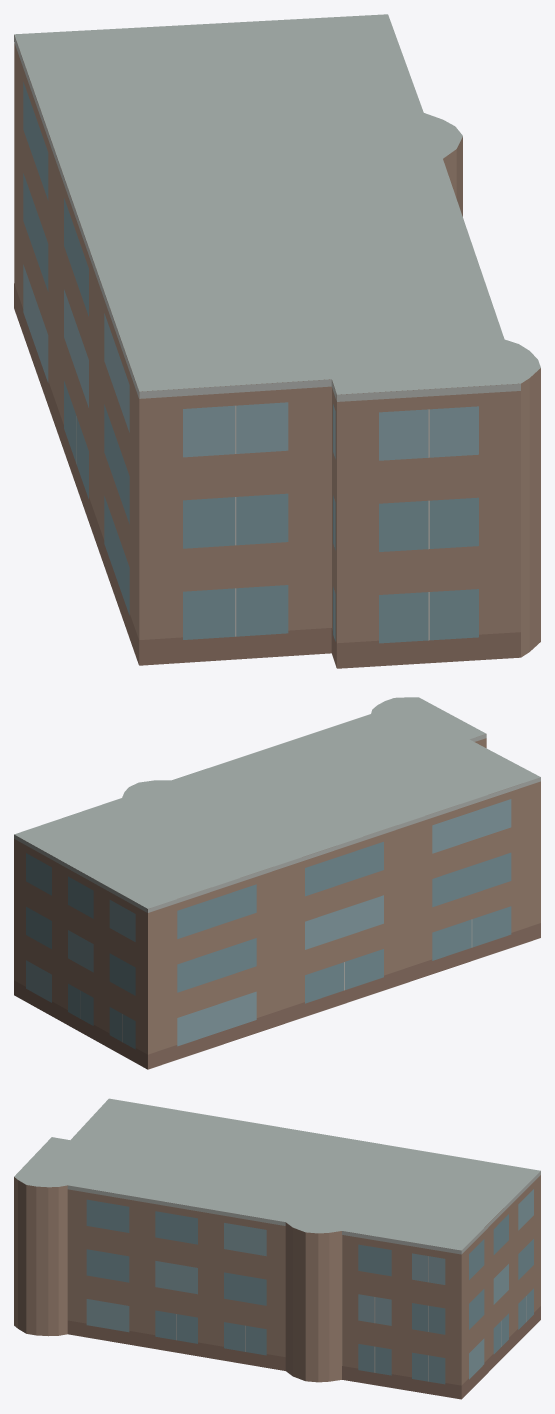
Rendered from survey-upis-32513296.glb.
3 views of the same model, one above another, from view 1: azimuth 30°, elevation 25°; view 2: azimuth 150°, elevation 25°; view 3: azimuth 270°, elevation 25° (orthographic). The views are drawn at different scales.
Visible parts, largest first — view 1: survey-upis-32513296.tmp; view 2: survey-upis-32513296.tmp; view 3: survey-upis-32513296.tmp.
Boxes of the visible parts, x1=… form: survey-upis-32513296.tmp: x1=14, y1=14, x2=540, y2=668; survey-upis-32513296.tmp: x1=14, y1=697, x2=540, y2=1069; survey-upis-32513296.tmp: x1=14, y1=1098, x2=540, y2=1399.
Size of the model in its own units: 20.04 by 9.15 by 29.35.
